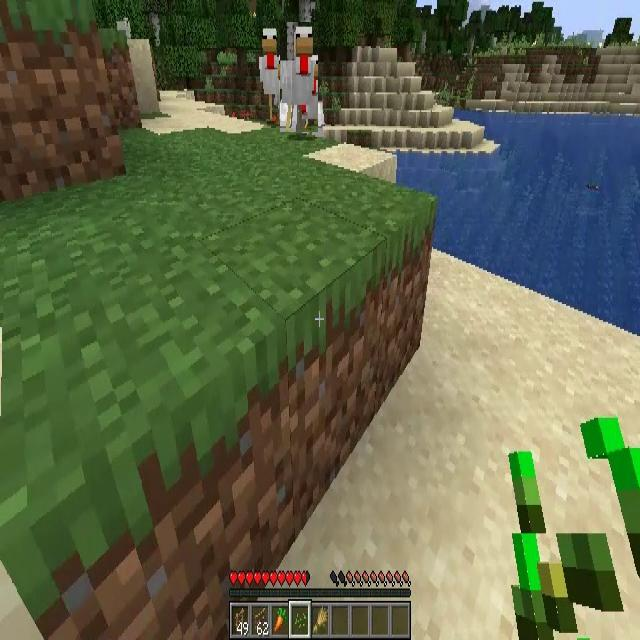duck: (280, 22, 318, 132), (259, 27, 283, 116)
